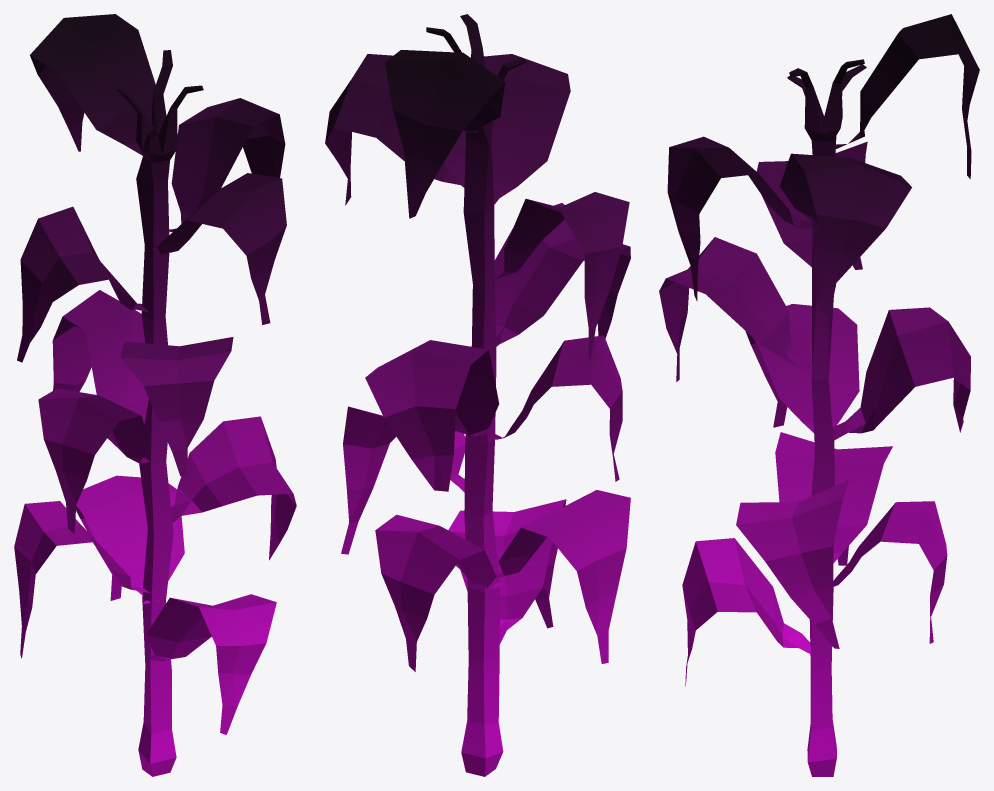
File: SM_Prop_Plant_Corn_01_L.fbx
3 views of the same model, side by side, from view 1: azimuth 30°, elevation 25°; view 2: azimuth 150°, elevation 25°; view 3: azimuth 270°, elevation 25° (orthographic). The views are drawn at different scales.
Visible parts, largest first — view 1: SM_Prop_Plant_Corn_01_L; view 2: SM_Prop_Plant_Corn_01_L; view 3: SM_Prop_Plant_Corn_01_L.
Boxes of the visible parts, bbox=[...] form: SM_Prop_Plant_Corn_01_L: bbox=[14, 14, 296, 776]; SM_Prop_Plant_Corn_01_L: bbox=[325, 14, 630, 776]; SM_Prop_Plant_Corn_01_L: bbox=[659, 14, 979, 776].
Bounding box in the file's own units: 82.06 × 219 × 85.56.
